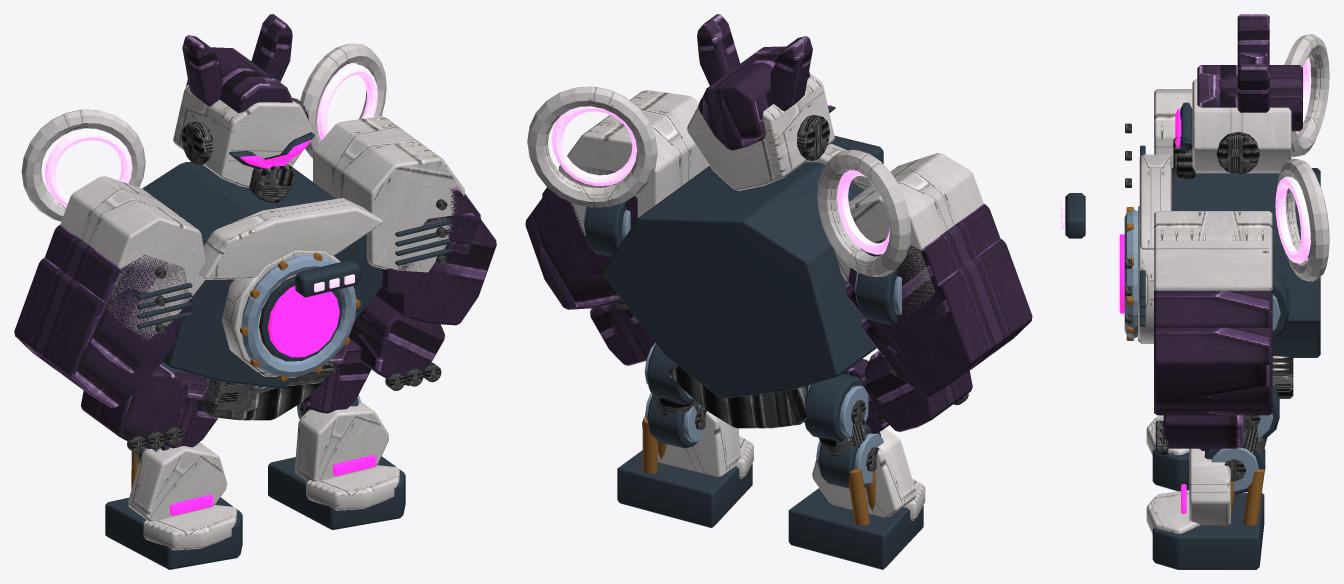
Rendered from sector_08_2.glb.
3 views of the same model, side by side, from view 1: azimuth 30°, elevation 25°; view 2: azimuth 150°, elevation 25°; view 3: azimuth 270°, elevation 25° (orthographic). The views are drawn at different scales.
Visible parts, largest first — view 1: Upper chest plating, Navy crown, Reinforced heavy torso, Face guard, Greave armor, Greave armor.001, Reactor lens, Reactor concentric ring, Servo housing.001, Servo housing.004, Induction inner ring, Tapered thigh shield.001 (+1 smaller); view 2: Reinforced heavy torso, Navy crown, Upper chest plating, Servo housing.001, Servo housing.004, Face guard, Greave armor, Greave armor.001, Induction inner ring, Bearing ring.002, Hub.002, Calf piston (+4 smaller); view 3: Upper chest plating, Navy crown, Reinforced heavy torso, Servo housing.004, Greave armor.001, Face guard, Induction inner ring, Reactor concentric ring, Servo housing.001, Bearing ring.008, Hub.008, Calf piston.002 (+2 smaller).
Part boxes in pixels (box(x1,y1,x2,y2)): Upper chest plating: box(21, 43, 465, 377); Navy crown: box(14, 14, 496, 448); Reinforced heavy torso: box(137, 132, 450, 388); Face guard: box(127, 98, 447, 453); Greave armor: box(127, 442, 237, 550); Greave armor.001: box(294, 402, 399, 510); Reactor lens: box(240, 140, 339, 357); Reactor concentric ring: box(241, 255, 356, 376); Servo housing.001: box(105, 362, 242, 569); Servo housing.004: box(268, 398, 405, 530); Induction inner ring: box(44, 64, 377, 292); Tapered thigh shield.001: box(301, 339, 371, 413); Reinforced heavy torso: box(584, 106, 897, 398); Navy crown: box(525, 14, 1032, 432); Upper chest plating: box(527, 73, 983, 313); Servo housing.001: box(788, 373, 923, 569); Servo housing.004: box(617, 344, 752, 527); Face guard: box(610, 98, 968, 428); Greave armor: box(812, 428, 925, 520); Greave armor.001: box(642, 411, 753, 478); Induction inner ring: box(551, 106, 889, 254); Bearing ring.002: box(804, 384, 883, 484); Hub.002: box(819, 400, 879, 471); Calf piston: box(849, 469, 875, 525); Upper chest plating: box(1138, 34, 1329, 343); Navy crown: box(1154, 14, 1302, 448); Reinforced heavy torso: box(1065, 102, 1320, 357); Servo housing.004: box(1152, 384, 1279, 569); Greave armor.001: box(1146, 448, 1230, 533); Face guard: box(1125, 123, 1293, 454); Induction inner ring: box(1061, 59, 1311, 263); Reactor concentric ring: box(1124, 209, 1280, 338); Servo housing.001: box(1152, 449, 1189, 491); Bearing ring.008: box(1211, 413, 1273, 491); Hub.008: box(1224, 415, 1266, 481); Calf piston.002: box(1219, 469, 1264, 525).
Size of the model in its own units: 1.52 by 1.64 by 0.8379.
Materials: 8 (3 with a texture image).
